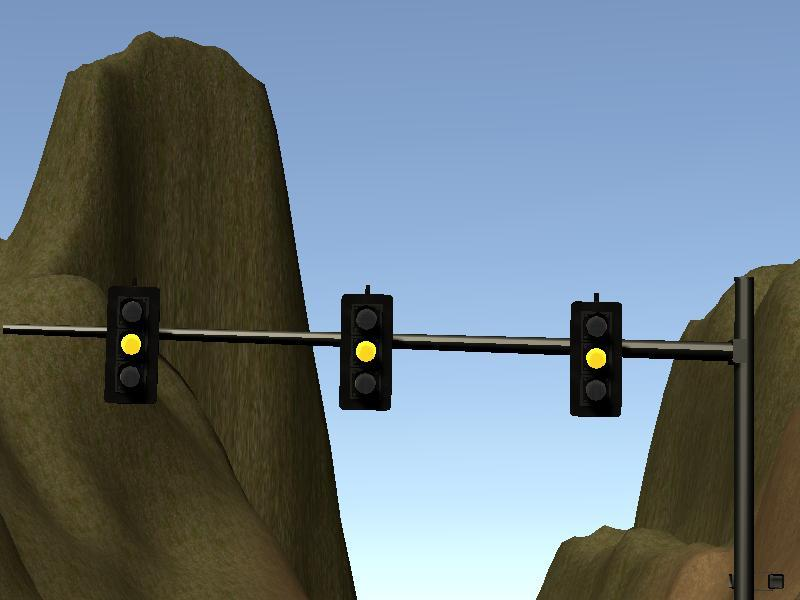Yellow: (342, 295, 393, 413), (571, 302, 623, 417), (110, 288, 157, 401)
